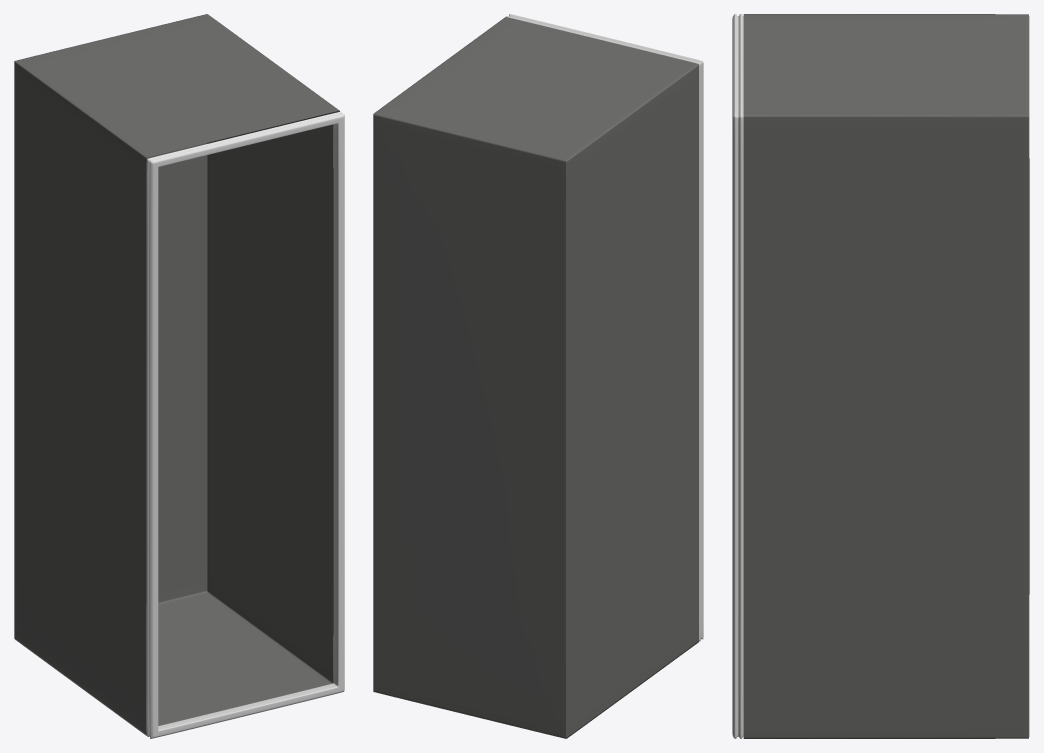
Rendered from fridge_body.gltf.
3 views of the same model, side by side, from view 1: azimuth 30°, elevation 25°; view 2: azimuth 150°, elevation 25°; view 3: azimuth 270°, elevation 25° (orthographic). The views are drawn at different scales.
Parts seen in each view (by area): view 1: FridgeBody; view 2: FridgeBody; view 3: FridgeBody.
Part boxes in pixels (left/top/right/bottom): FridgeBody: left=14, top=14, right=344, bottom=738; FridgeBody: left=373, top=14, right=703, bottom=738; FridgeBody: left=732, top=14, right=1029, bottom=738.
Bounding box in the file's own units: 2.29 × 6.5 × 2.81.
1 material, 1 textured.
